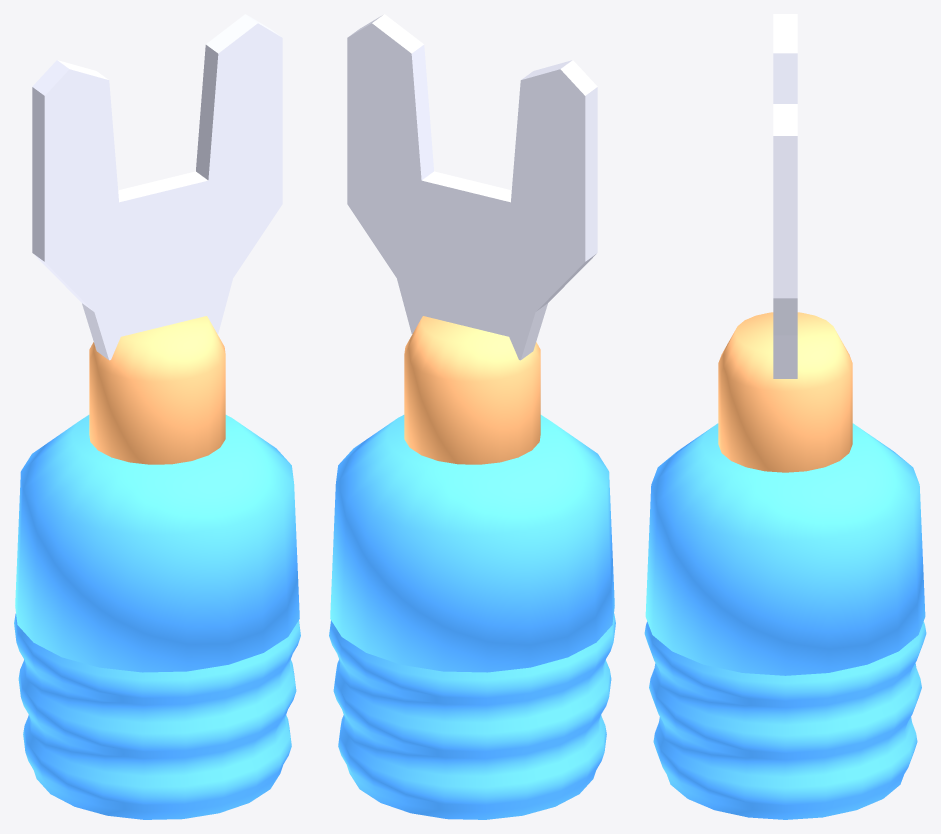
The model's file is terminal_fork.glb.
3 views of the same model, side by side, from view 1: azimuth 30°, elevation 25°; view 2: azimuth 150°, elevation 25°; view 3: azimuth 270°, elevation 25° (orthographic). The views are drawn at different scales.
Parts seen in each view (by area): view 1: boot, spade, barrel; view 2: boot, spade, barrel; view 3: boot, barrel, spade.
Boxes of the visible parts, bbox=[...] form: boot: bbox=[14, 415, 300, 819]; spade: bbox=[32, 14, 282, 360]; barrel: bbox=[89, 316, 225, 464]; boot: bbox=[329, 415, 615, 819]; spade: bbox=[347, 14, 597, 360]; barrel: bbox=[404, 316, 540, 464]; boot: bbox=[644, 423, 926, 819]; barrel: bbox=[718, 312, 852, 472]; spade: bbox=[773, 14, 797, 378].
Bounding box in the file's own units: 2.52 × 7 × 2.52.
